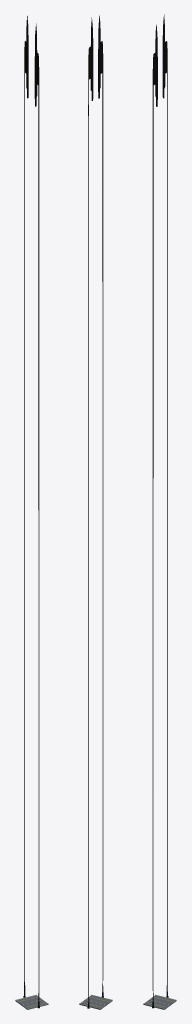
3 views of the same model, side by side, from view 1: azimuth 30°, elevation 25°; view 2: azimuth 150°, elevation 25°; view 3: azimuth 330°, elevation 25° (orthographic).
Parts seen in each view (by area): view 1: leftLight, rightLight, road; view 2: leftLight, rightLight, road; view 3: leftLight, rightLight, road.
Boxes of the visible parts, x1=… form: leftLight: x1=34, y1=23, x2=39, y2=1002; rightLight: x1=24, y1=16, x2=28, y2=992; road: x1=15, y1=994, x2=48, y2=1009; leftLight: x1=98, y1=15, x2=103, y2=992; rightLight: x1=88, y1=17, x2=93, y2=1002; road: x1=79, y1=994, x2=112, y2=1009; leftLight: x1=152, y1=24, x2=157, y2=1002; rightLight: x1=162, y1=14, x2=167, y2=992; road: x1=143, y1=994, x2=176, y2=1009.
Bounding box in the file's own units: 2 × 88.72 × 2.5.
3 materials, 1 textured.
